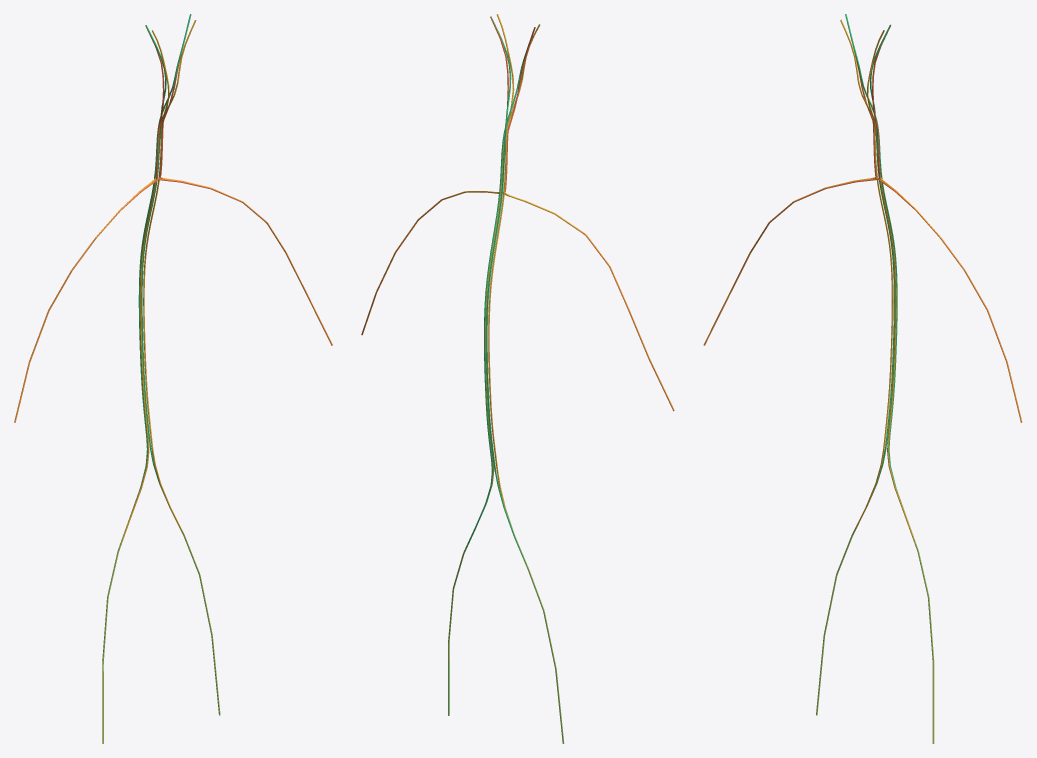
File: brain-tracts.glb
3 renders of one model, left to right at view 1: azimuth 30°, elevation 25°; view 2: azimuth 150°, elevation 25°; view 3: azimuth 330°, elevation 25°, orthographic.
Parts seen in each view (by area): view 1: cst, dcml, stt; view 2: cst, dcml, stt; view 3: cst, dcml, stt.
Boxes of the visible parts, left/top/right/bottom form: cst: left=14, top=20, right=332, bottom=743; dcml: left=102, top=14, right=220, bottom=743; stt: left=14, top=14, right=332, bottom=422; cst: left=361, top=14, right=674, bottom=743; dcml: left=448, top=16, right=564, bottom=743; stt: left=361, top=16, right=674, bottom=410; cst: left=704, top=19, right=1021, bottom=743; dcml: left=816, top=14, right=933, bottom=743; stt: left=704, top=14, right=1022, bottom=422.
Size of the model in its own units: 0.5462 by 1.17 by 0.1012.
